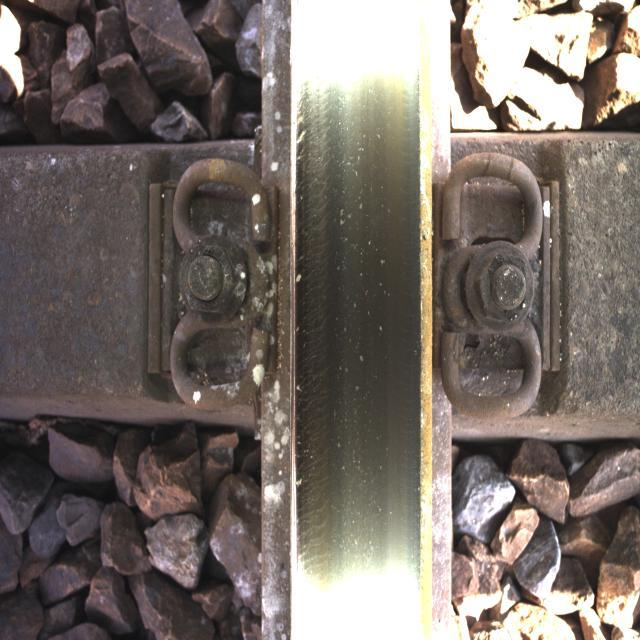normal: (299, 27, 410, 615)
